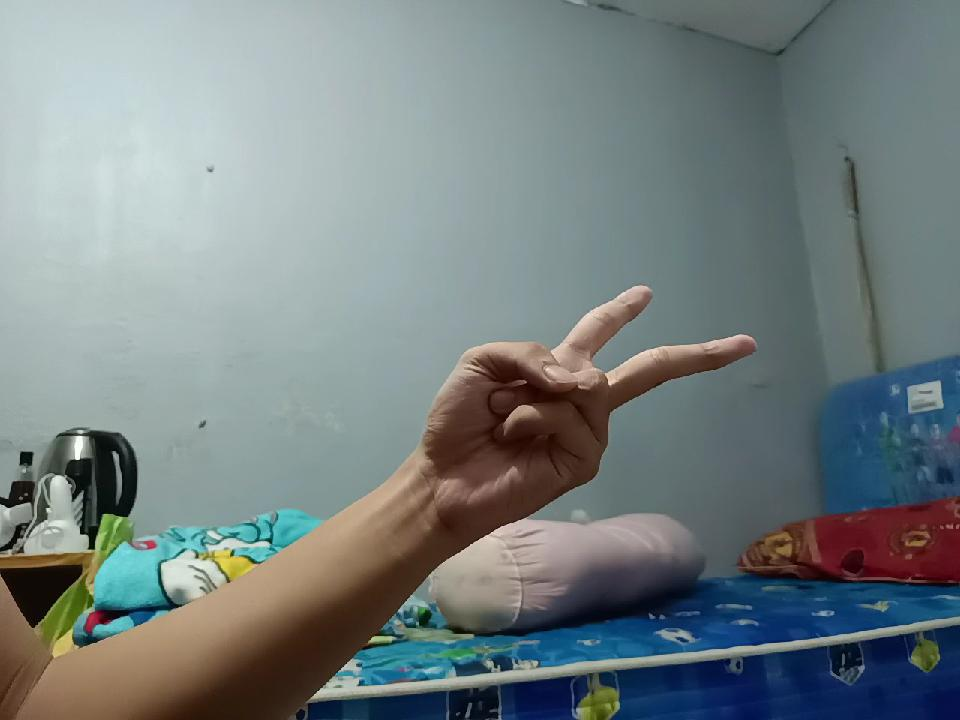scissors: (412, 274, 746, 507)
